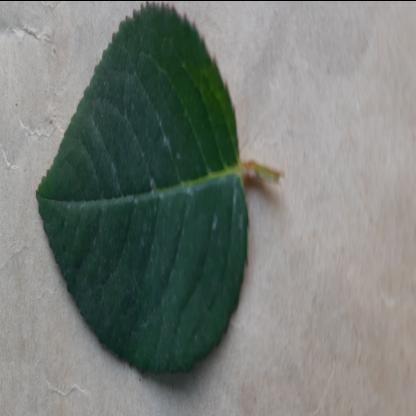normal: (39, 15, 249, 373)
